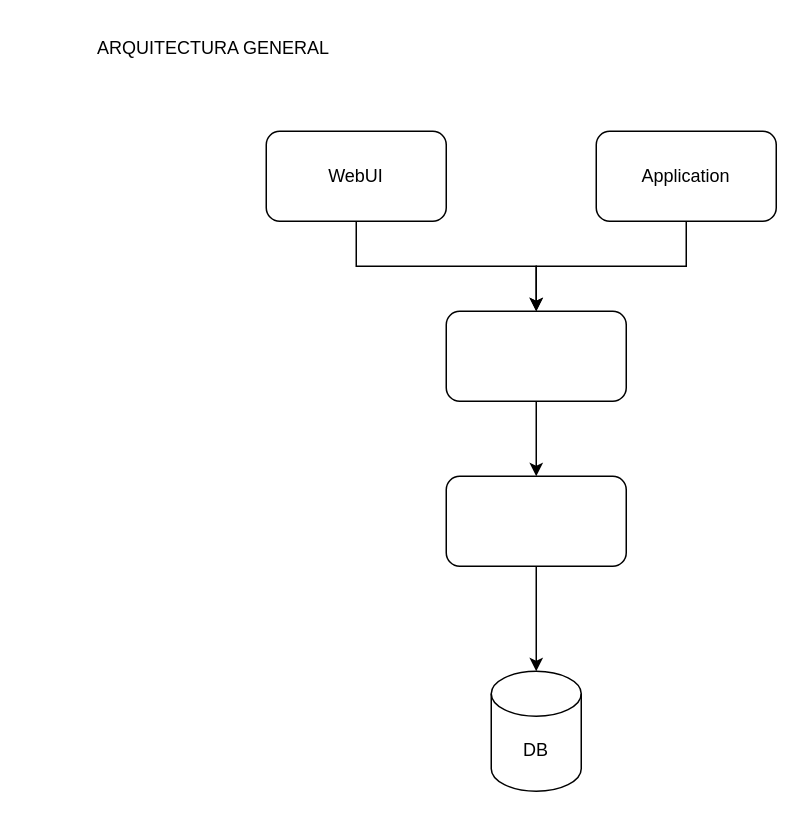
Image size: 803x818. Some labels were removed from this diagram. The shapes that lost their labels are listed below. From the top down, each one's box as (x1, y1, x2, y2) in pixels, then its label:
(445, 310, 626, 401): Domain
(445, 475, 626, 566): Infrastructure
